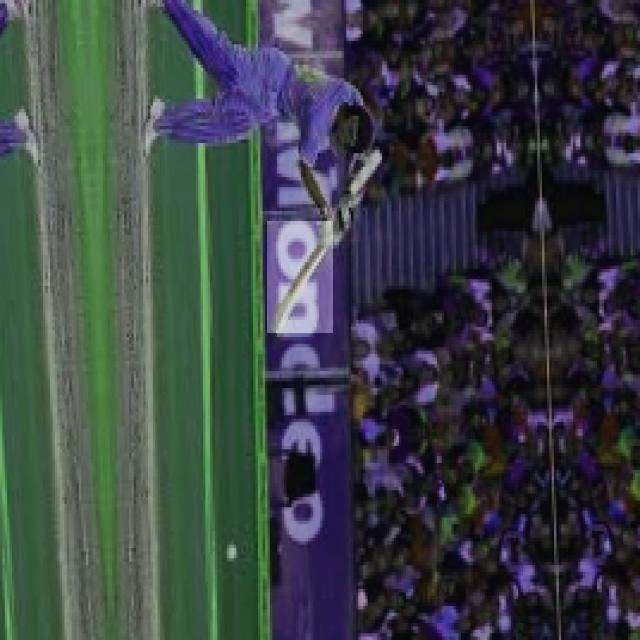bat: (267, 220, 333, 340)
